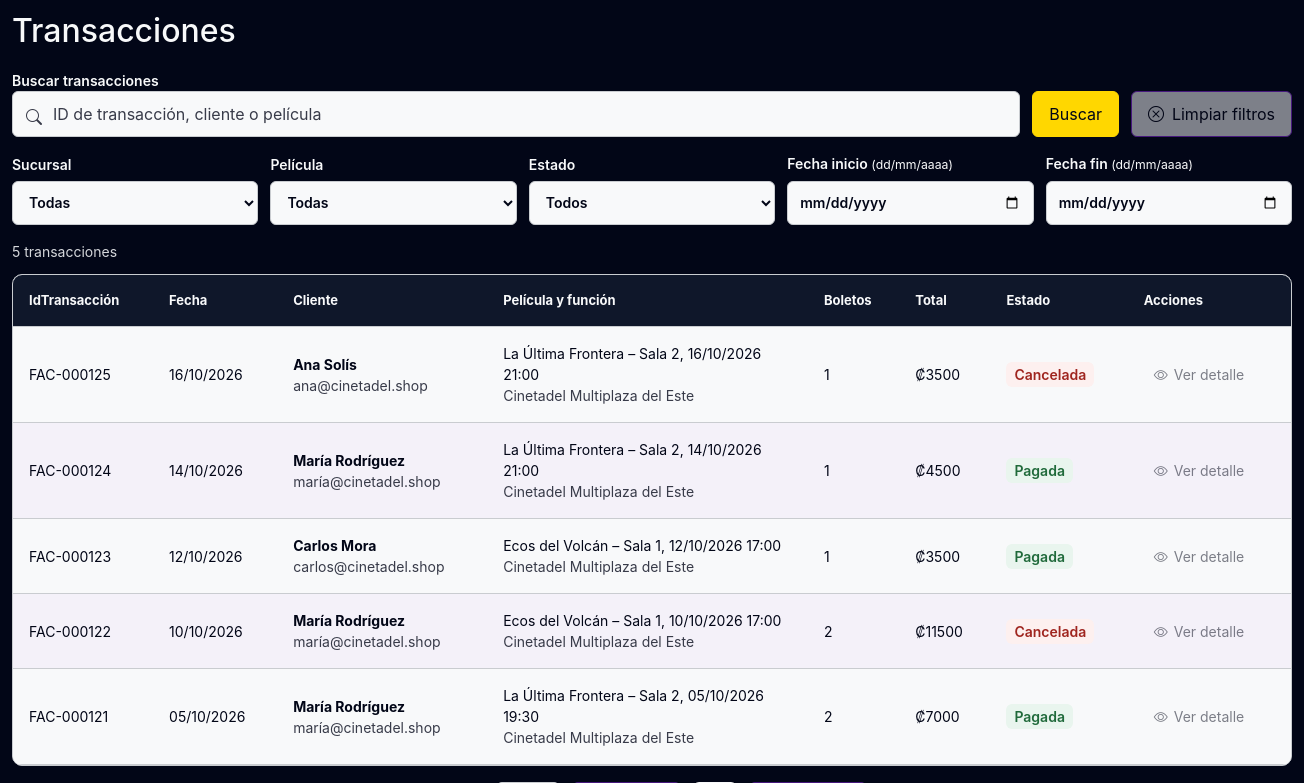
Test: TransactionsSection › searches by ID, client or movie, normalizing spaces, and clears the filters
Expected: the button "Limpiar filtros" is disabled, [1131,91,1292,137]
Type "  María   Rodríguez " into the search field named "search" at (516, 114), box [12,91,1020,137]
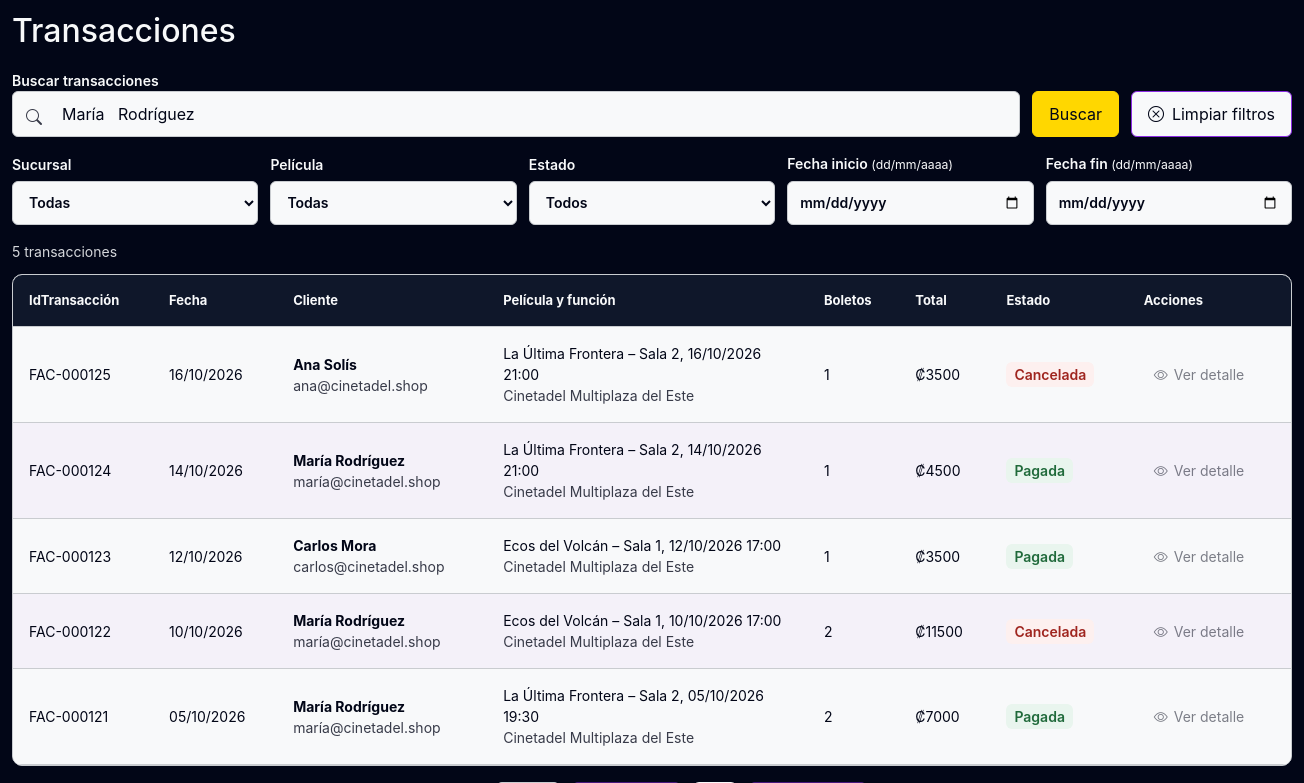
Submit the form, box [12,70,1292,137]
Click the button "Limpiar filtros" at (1211, 114), box [1131,91,1292,137]
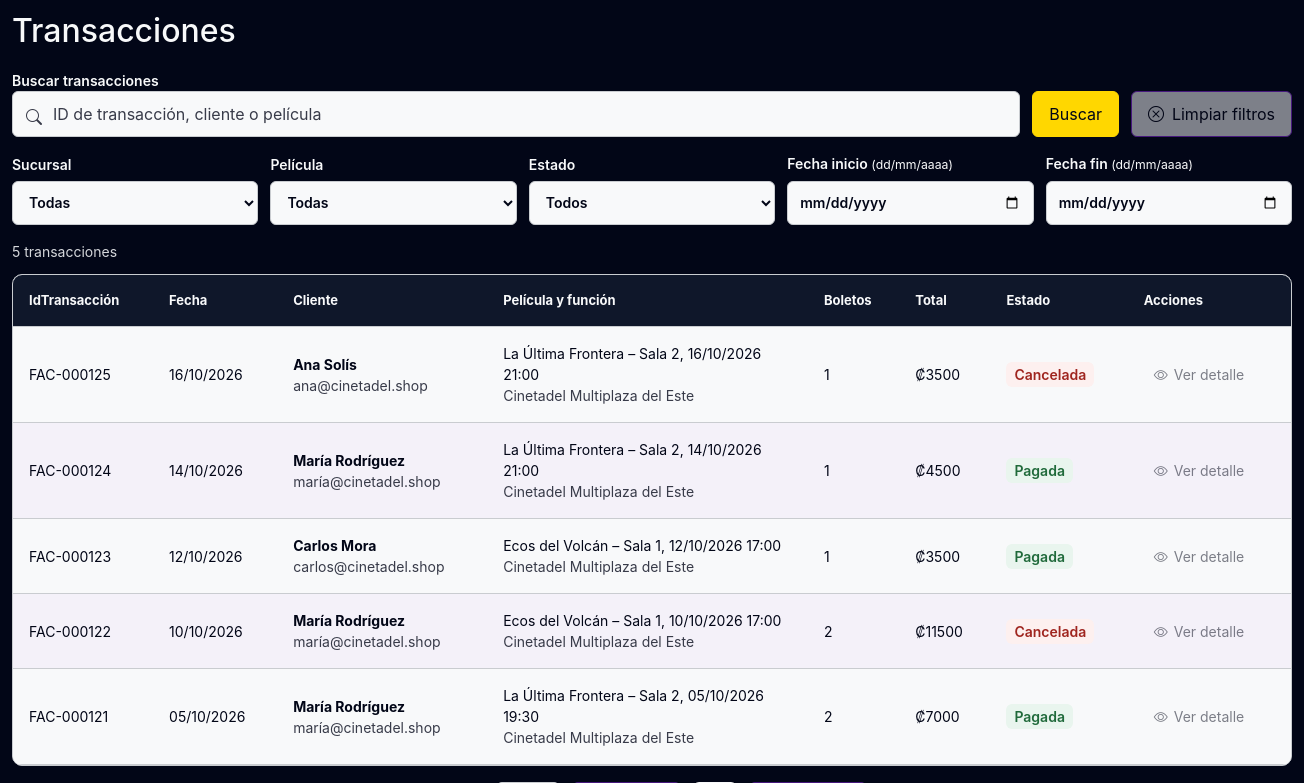
Expected: the search field named "search" is empty, [12,91,1020,137]
